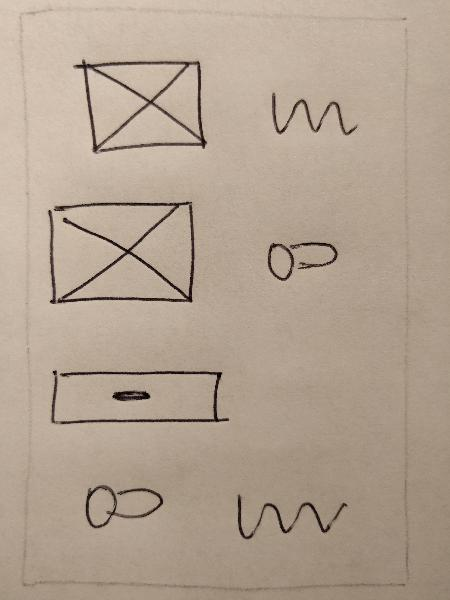button: (45, 361, 233, 435)
image: (40, 197, 201, 316), (66, 49, 216, 164)
switch: (74, 477, 168, 539), (260, 229, 342, 291)
text: (226, 484, 349, 549), (260, 81, 359, 149)
